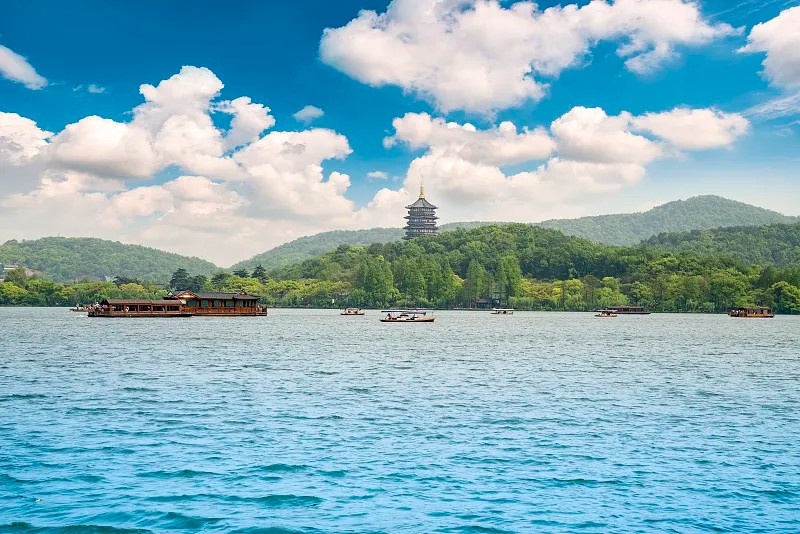Leifeng: (402, 179, 438, 238)
